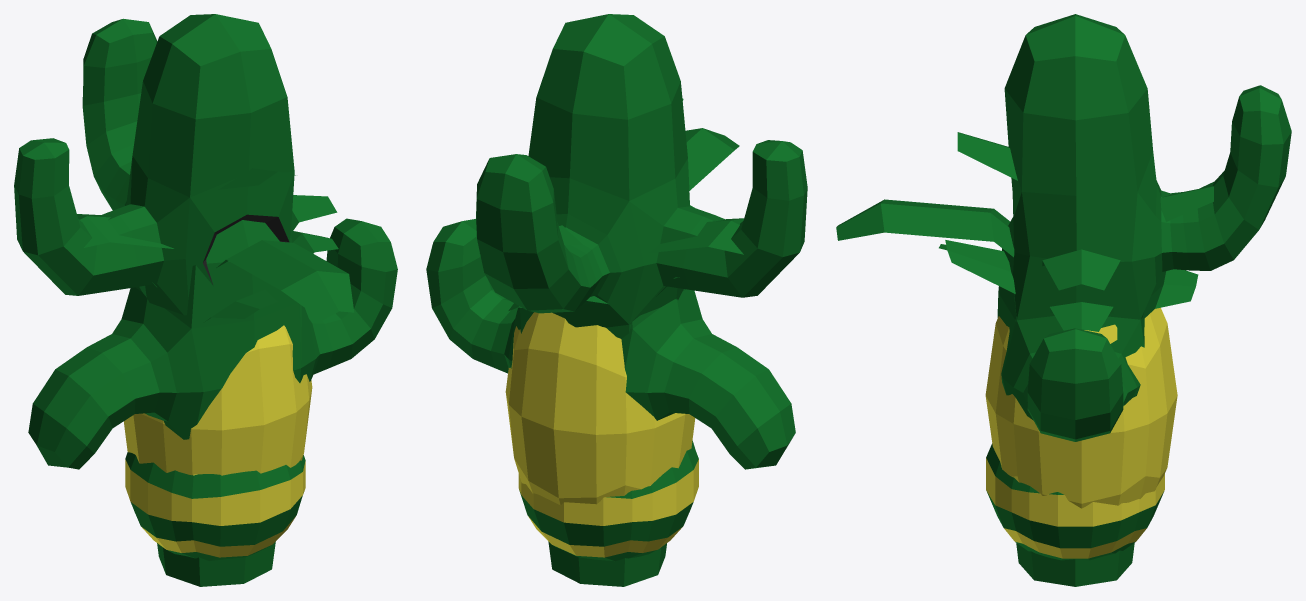
The model's file is Deserty Plant.fbx.
3 views of the same model, side by side, from view 1: azimuth 30°, elevation 25°; view 2: azimuth 150°, elevation 25°; view 3: azimuth 270°, elevation 25° (orthographic).
Visible parts, largest first — view 1: Cactus Type D, Cactus Type C No.2, Cactus Module Type B, Cactus Type D No.2, Cactus Module Type A, Cactus Type C; view 2: Cactus Type D, Cactus Module Type B, Cactus Type C No.2, Cactus Type D No.2, Cactus Module Type A, Cactus Type C; view 3: Cactus Type D, Cactus Module Type B, Cactus Type C, Cactus Module Type A, Cactus Type C No.2.
Part boxes in pixels (bbox=[...]): Cactus Type D: bbox=[82, 14, 319, 382]; Cactus Type C No.2: bbox=[28, 220, 300, 586]; Cactus Module Type B: bbox=[77, 168, 354, 475]; Cactus Type D No.2: bbox=[14, 138, 189, 315]; Cactus Module Type A: bbox=[125, 452, 305, 560]; Cactus Type C: bbox=[299, 218, 397, 374]; Cactus Type D: bbox=[476, 14, 687, 368]; Cactus Module Type B: bbox=[479, 98, 743, 505]; Cactus Type C No.2: bbox=[566, 289, 795, 586]; Cactus Type D No.2: bbox=[629, 140, 807, 324]; Cactus Module Type A: bbox=[518, 440, 698, 561]; Cactus Type C: bbox=[426, 219, 579, 583]; Cactus Type D: bbox=[1002, 14, 1291, 420]; Cactus Module Type B: bbox=[836, 132, 1213, 508]; Cactus Type C: bbox=[1002, 316, 1132, 586]; Cactus Module Type A: bbox=[986, 443, 1164, 560]; Cactus Type C No.2: bbox=[997, 217, 1134, 579].
Bounding box in the file's own units: 214 × 305 × 230.
